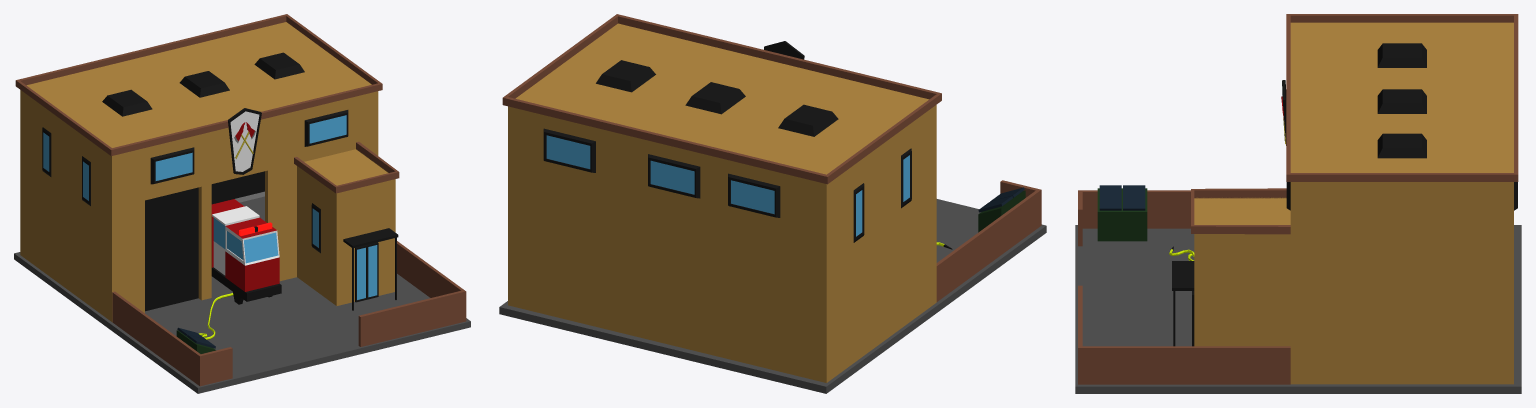
Rendered from fire.glb.
The picture shows the model from 3 angles, left to right: view 1: azimuth 30°, elevation 25°; view 2: azimuth 150°, elevation 25°; view 3: azimuth 270°, elevation 25°; orthographic projection. The views are drawn at different scales.
Parts seen in each view (by area): view 1: SER_T2_16_PERRONE_01.001_Material.008_0; view 2: SER_T2_16_PERRONE_01.001_Material.008_0; view 3: SER_T2_16_PERRONE_01.001_Material.008_0.
Boxes of the visible parts, x1=… form: SER_T2_16_PERRONE_01.001_Material.008_0: x1=14, y1=14, x2=470, y2=393; SER_T2_16_PERRONE_01.001_Material.008_0: x1=499, y1=14, x2=1046, y2=393; SER_T2_16_PERRONE_01.001_Material.008_0: x1=1075, y1=14, x2=1521, y2=393.
Size of the model in its own units: 12 by 8 by 14.
1 material, 1 textured.
